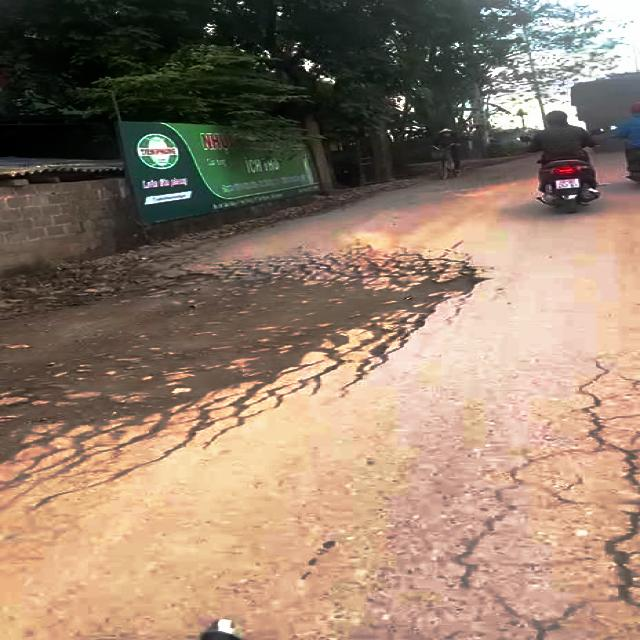pothole: (0, 262, 488, 412)
